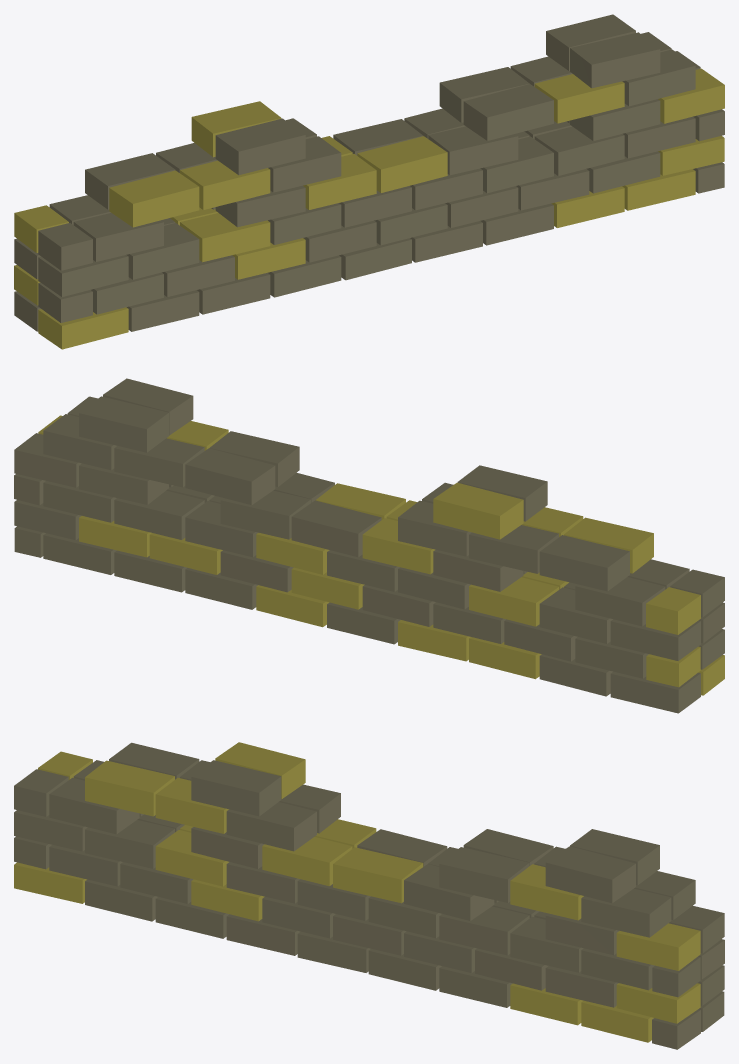
File: SM_MuroSacos_v2_Irregular_e0_Sano_LOD0.fbx
The picture shows the model from 3 angles, top to bottom: view 1: azimuth 30°, elevation 25°; view 2: azimuth 150°, elevation 25°; view 3: azimuth 330°, elevation 25°; orthographic projection.
Parts seen in each view (by area): view 1: SM_bloques.muro_sacos_estados_v8_LOD0; view 2: SM_bloques.muro_sacos_estados_v8_LOD0; view 3: SM_bloques.muro_sacos_estados_v8_LOD0.
Part boxes in pixels (box(x1,y1,x2,y2)): SM_bloques.muro_sacos_estados_v8_LOD0: box(14, 14, 724, 349); SM_bloques.muro_sacos_estados_v8_LOD0: box(14, 378, 724, 713); SM_bloques.muro_sacos_estados_v8_LOD0: box(14, 742, 724, 1049).
Bounding box in the file's own units: 7.97 × 1.77 × 0.9935.
